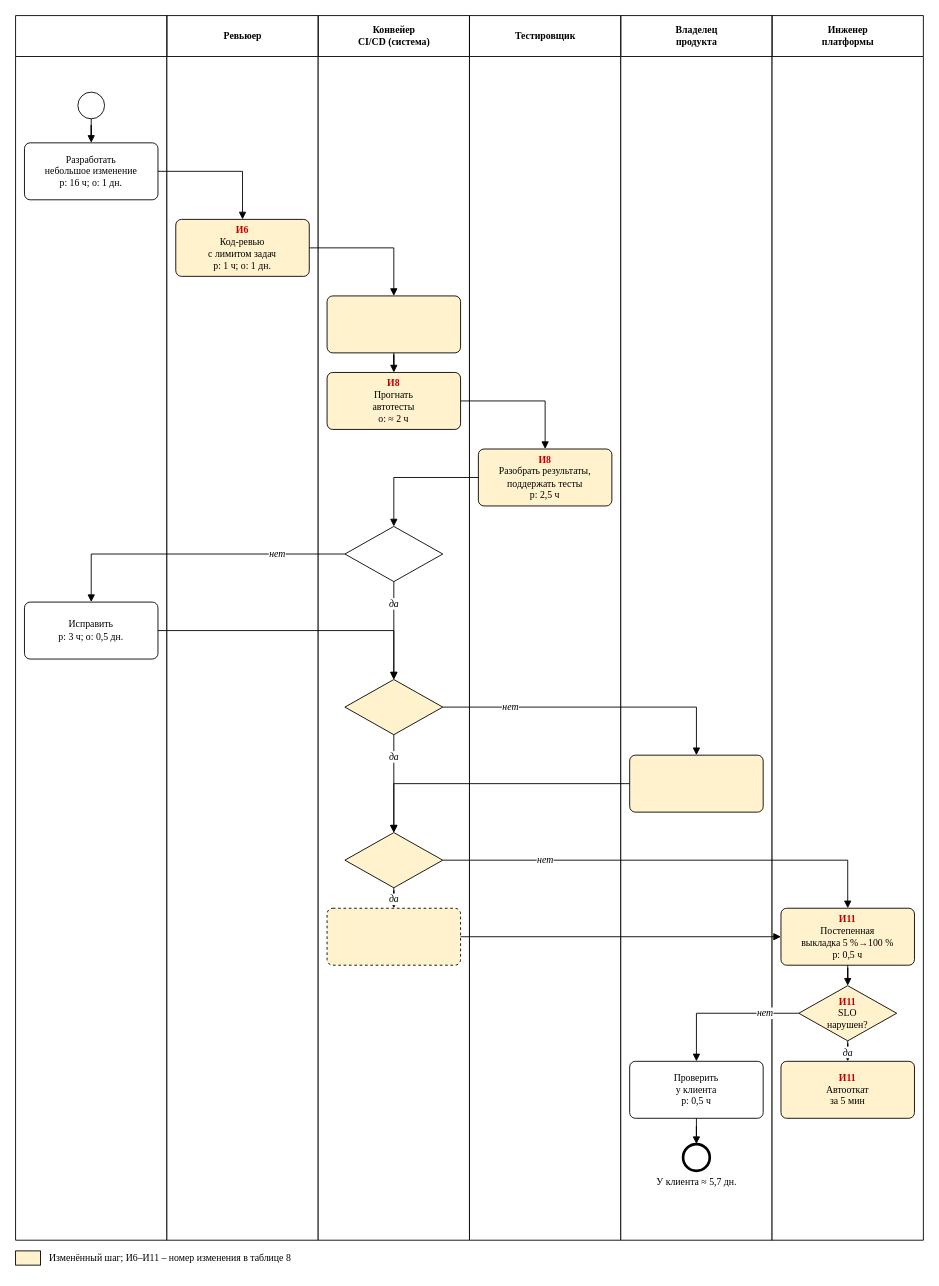
This 939x1286 diagram has some shape labels left out. The box of each missing label's shape, as (x1, y1, x2, y2) in pixels:
Задача готова: (77, 91, 105, 119)
И10 Ждать конца окна (кроме исправлений) о: до 3 раб. дн.: (326, 907, 461, 965)
И10 Окно сдачи?: (344, 832, 443, 888)
И7 Поднять стенд автоматически р: 0; о: 0: (326, 295, 461, 353)
И9 Согласовать нестандартное изменение р: 1 ч: (629, 754, 763, 812)
И9 Стандартное?: (344, 679, 443, 735)
Разработчик: (15, 15, 167, 1240)
Тесты прошли?: (344, 526, 443, 582)
